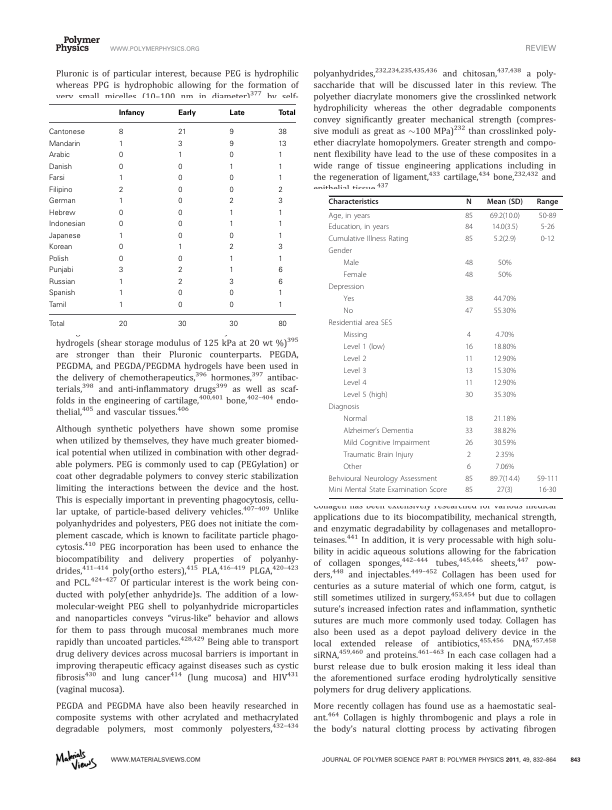borderless: (328, 194, 563, 498), (47, 103, 297, 329)
cell: (328, 486, 448, 496), (328, 474, 438, 484), (342, 438, 431, 448), (328, 235, 410, 245), (342, 426, 414, 436), (342, 450, 414, 460), (328, 223, 390, 233), (328, 319, 393, 328), (328, 198, 379, 207), (328, 211, 371, 221), (342, 391, 389, 400), (342, 343, 386, 352), (48, 220, 86, 229), (486, 198, 524, 207), (48, 128, 85, 137), (328, 283, 365, 292), (489, 211, 521, 221), (489, 474, 521, 484), (48, 140, 81, 149), (48, 232, 81, 241), (328, 403, 360, 412), (491, 223, 519, 233), (342, 414, 368, 424), (117, 109, 145, 118), (48, 197, 76, 206), (48, 209, 76, 218), (48, 278, 76, 287), (48, 289, 76, 298), (328, 247, 353, 257), (493, 235, 517, 245), (493, 414, 517, 424), (493, 426, 517, 436), (493, 438, 517, 448), (48, 266, 74, 275), (342, 331, 368, 340), (536, 474, 559, 484), (48, 186, 73, 195), (48, 243, 73, 252), (342, 271, 367, 280), (342, 355, 367, 364), (342, 367, 367, 376), (342, 379, 367, 388), (48, 163, 72, 172), (493, 295, 517, 304), (493, 307, 517, 316), (493, 343, 517, 352), (493, 355, 517, 364), (493, 367, 517, 376), (493, 379, 517, 388), (493, 391, 517, 400), (494, 450, 515, 460), (342, 462, 363, 472), (494, 462, 515, 472), (536, 198, 559, 207), (48, 151, 70, 160), (538, 211, 557, 221), (538, 486, 557, 496), (48, 255, 69, 264), (494, 331, 515, 340), (342, 259, 360, 269), (496, 486, 514, 496), (177, 109, 196, 118), (277, 109, 296, 118), (48, 301, 67, 310), (228, 109, 245, 118), (48, 174, 65, 183), (48, 320, 65, 329), (540, 223, 555, 233), (540, 235, 555, 245), (497, 259, 512, 269), (497, 271, 512, 280), (342, 295, 355, 304), (342, 307, 354, 316), (464, 211, 474, 221), (464, 223, 474, 233), (464, 235, 474, 245), (464, 259, 474, 269), (464, 414, 474, 424), (464, 426, 474, 436), (464, 438, 474, 448), (464, 474, 474, 484), (464, 486, 474, 496), (117, 320, 128, 329), (177, 128, 187, 137), (277, 128, 287, 137), (277, 140, 287, 149), (177, 320, 187, 329), (228, 320, 238, 329), (277, 320, 287, 329), (464, 271, 474, 280), (464, 295, 474, 304), (464, 307, 474, 316), (464, 343, 474, 352), (464, 355, 474, 364), (464, 367, 474, 376), (464, 379, 474, 388), (464, 391, 474, 400), (465, 198, 473, 207), (117, 128, 124, 137), (117, 140, 124, 149), (117, 151, 124, 160), (117, 163, 124, 172), (117, 174, 124, 183), (117, 186, 124, 195), (117, 197, 124, 206), (117, 209, 124, 218), (117, 220, 124, 229), (117, 232, 124, 241), (117, 243, 124, 252), (117, 255, 124, 264), (117, 266, 124, 275), (117, 278, 124, 287), (117, 289, 124, 298), (117, 301, 124, 310), (466, 450, 472, 460), (466, 462, 472, 472), (228, 128, 234, 137), (177, 140, 183, 149), (228, 140, 234, 149), (177, 151, 183, 160), (228, 151, 234, 160), (277, 151, 283, 160), (177, 163, 183, 172), (228, 163, 234, 172), (277, 163, 283, 172), (177, 174, 183, 183), (228, 174, 234, 183), (277, 174, 283, 183), (177, 186, 183, 195), (228, 186, 234, 195), (277, 186, 283, 195), (177, 197, 183, 206), (228, 197, 234, 206), (277, 197, 283, 206), (177, 209, 183, 218), (228, 209, 234, 218), (277, 209, 283, 218), (177, 220, 183, 229), (228, 220, 234, 229), (277, 220, 283, 229), (177, 232, 183, 241), (228, 232, 234, 241), (277, 232, 283, 241), (177, 243, 183, 252), (228, 243, 234, 252), (277, 243, 283, 252), (177, 255, 183, 264), (228, 255, 234, 264), (277, 255, 283, 264), (177, 266, 183, 275), (228, 266, 234, 275), (277, 266, 283, 275), (177, 278, 183, 287), (228, 278, 234, 287), (277, 278, 283, 287), (177, 289, 183, 298), (228, 289, 234, 298), (277, 289, 283, 298), (177, 301, 183, 310), (228, 301, 234, 310), (277, 301, 283, 310), (466, 331, 472, 340)
